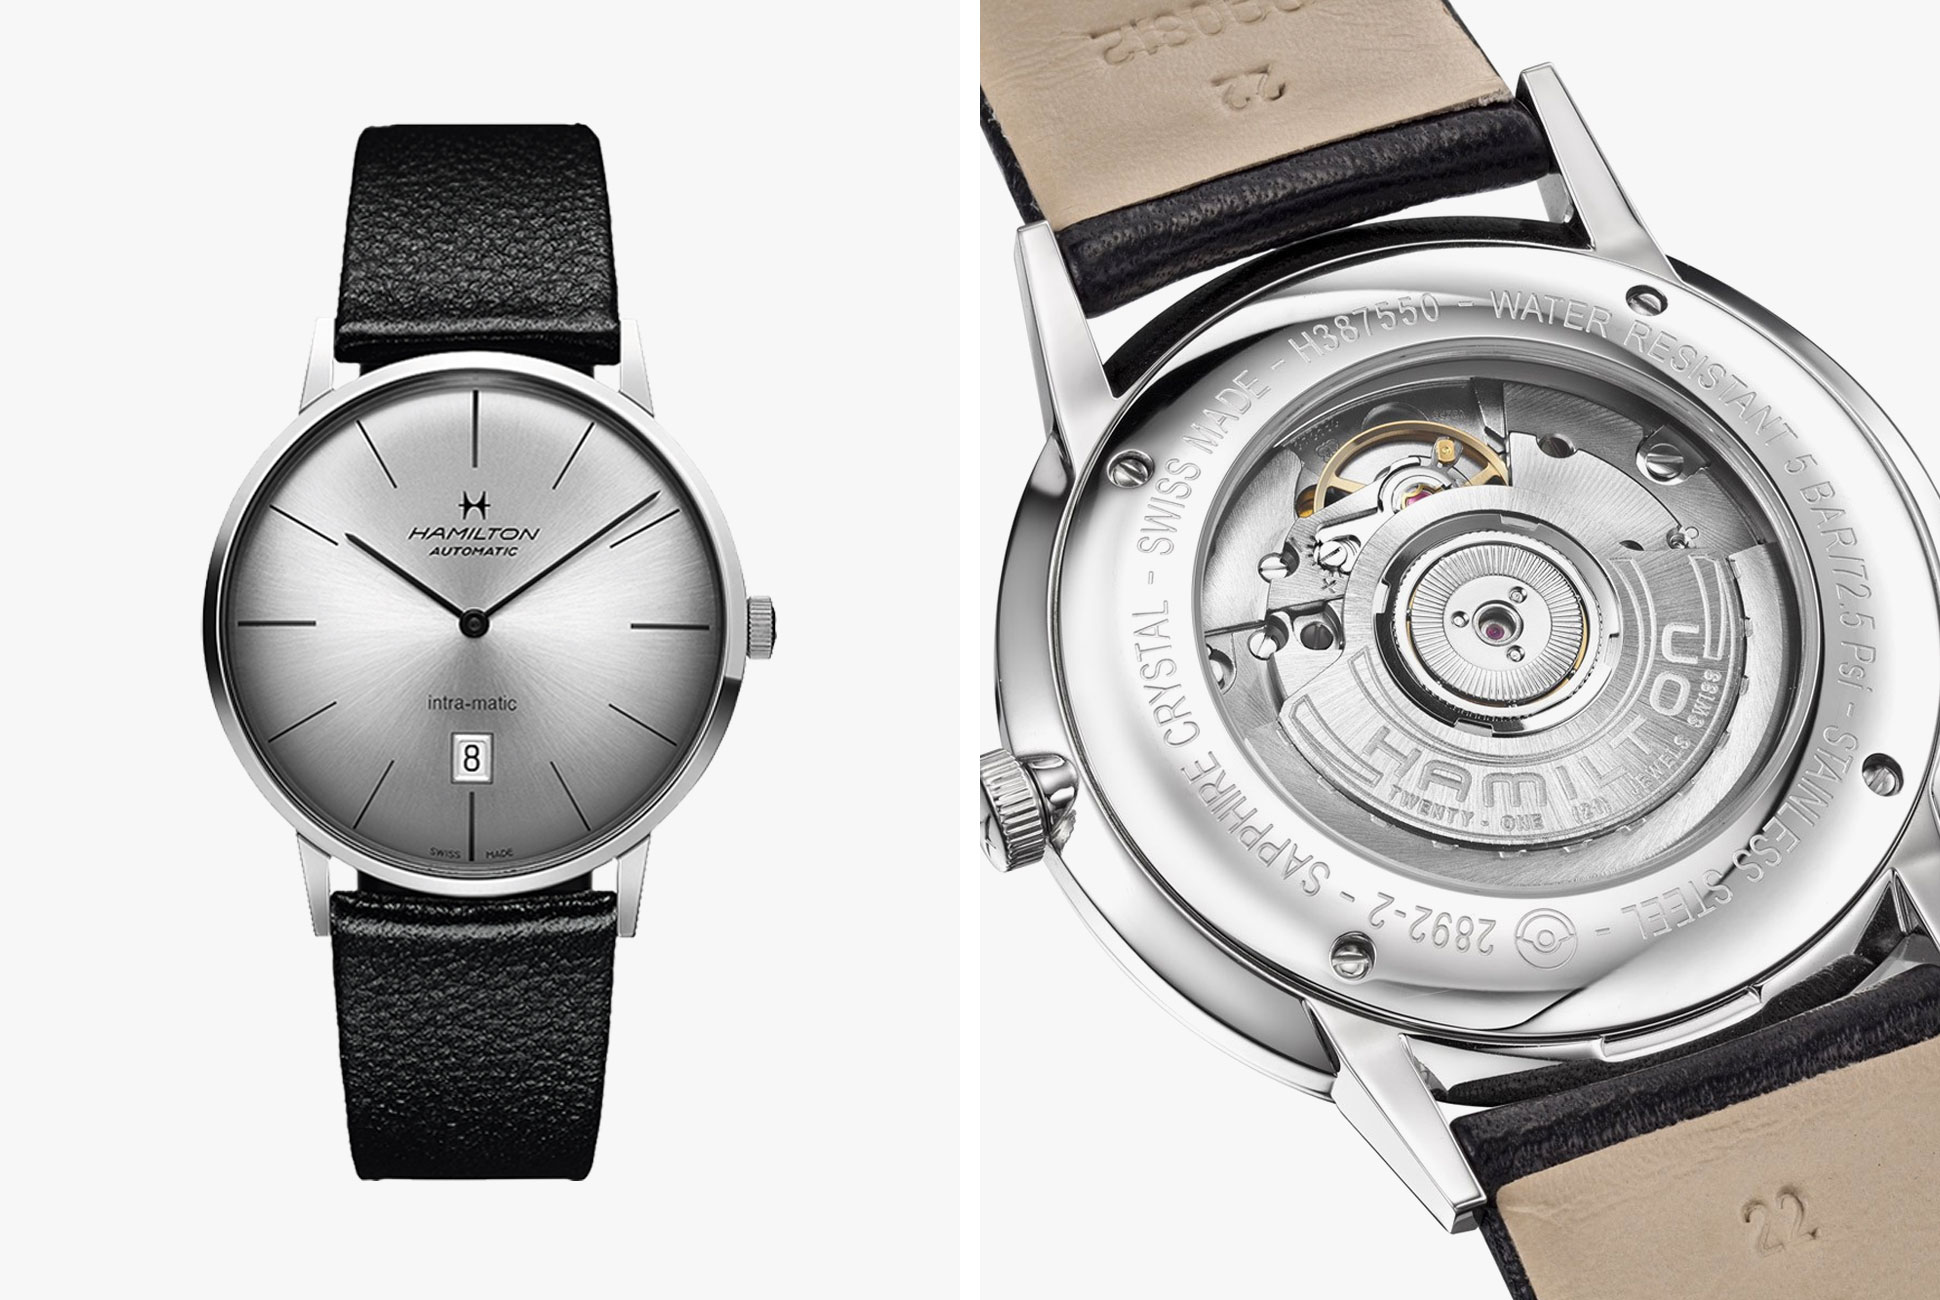clock: (225, 370, 739, 888)
